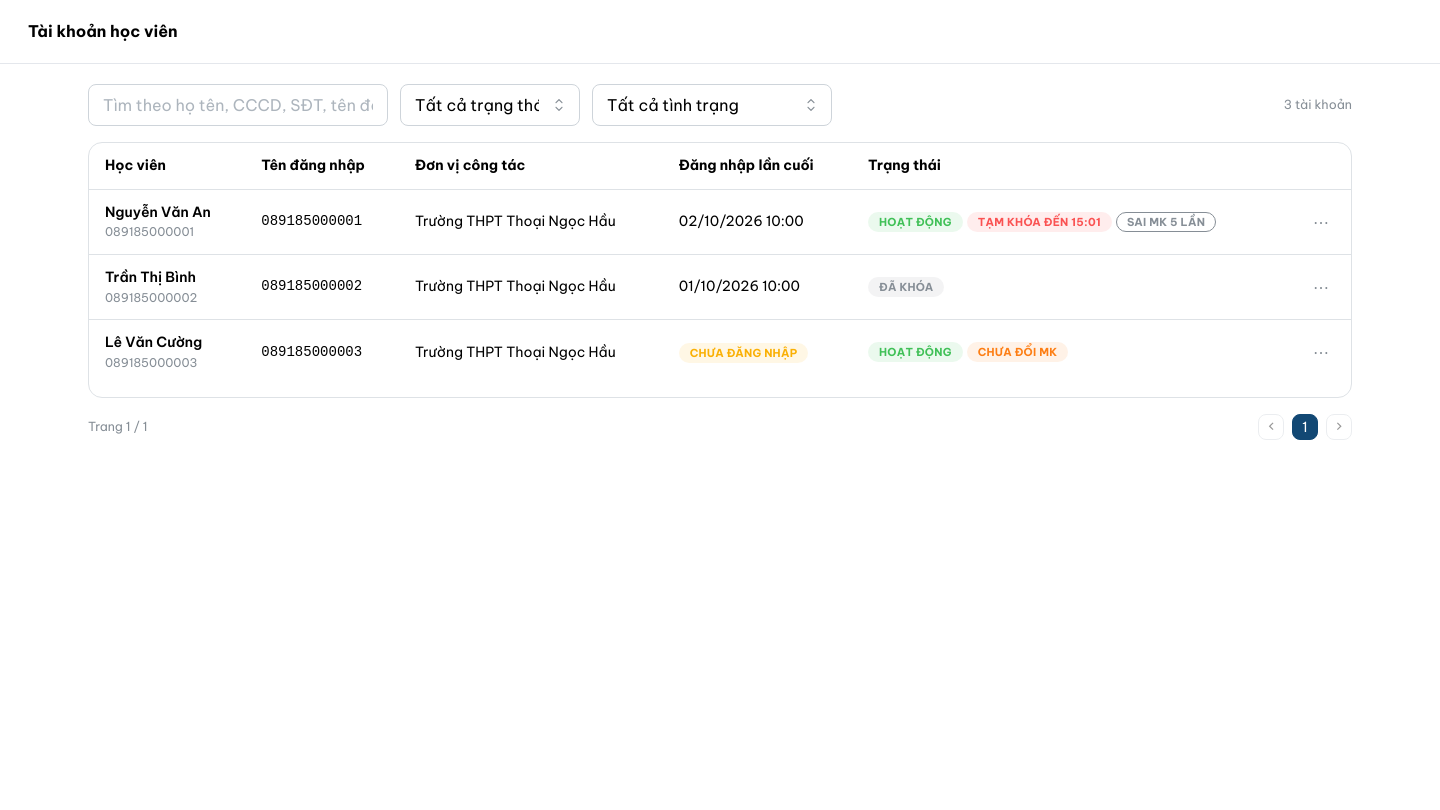
Test: Admin — Tài khoản học viên › cấp lại mật khẩu: modal hiện thông tin xác minh, chỉ gọi API khi xác nhận, thông báo kèm lưu ý
Click the button "⋯" in the row of "Nguyễn Văn An" at (1321, 222), box [1307, 208, 1335, 236]
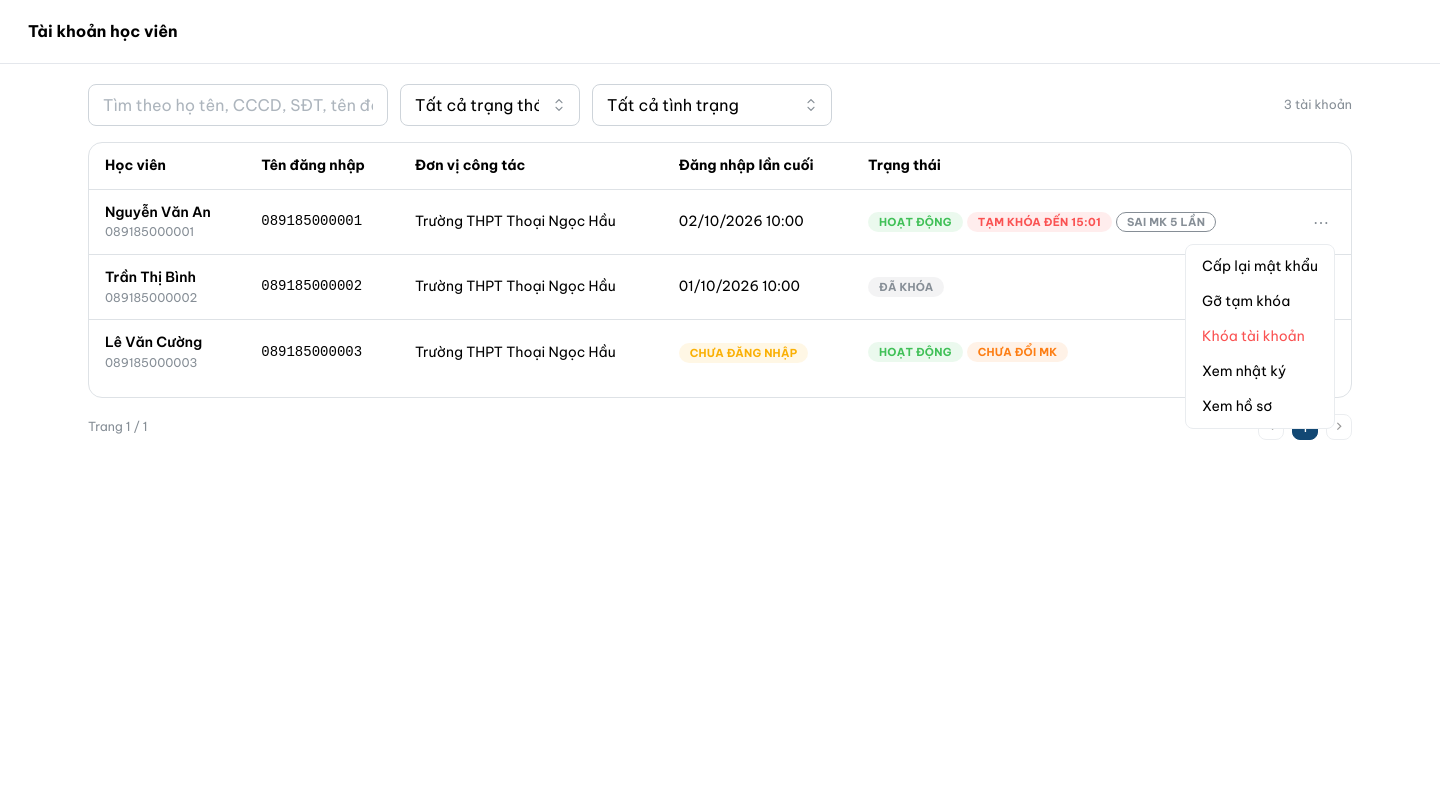
Click the menu item "Cấp lại mật khẩu" at (1260, 266), box [1190, 249, 1330, 284]
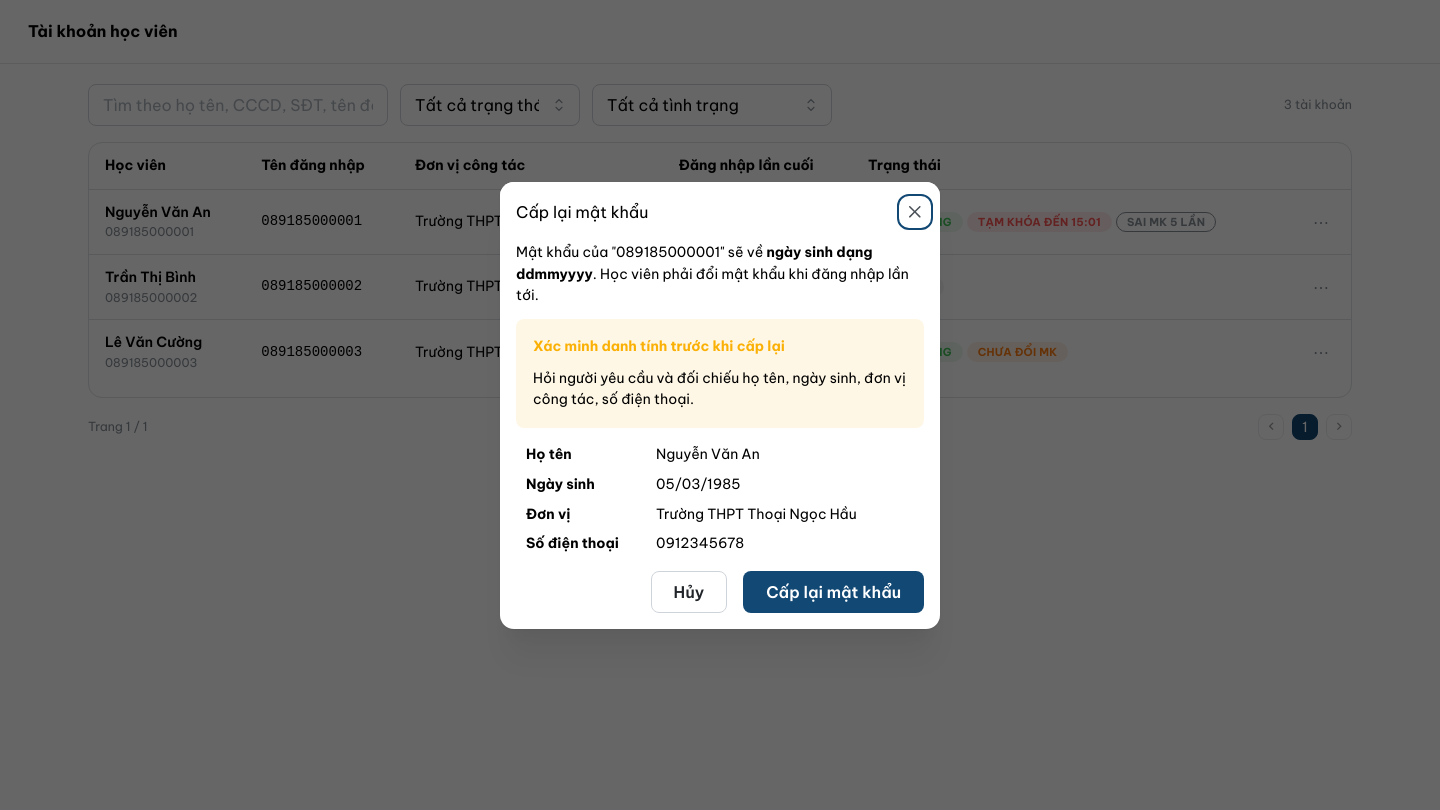
Now the text "ngày sinh dạng ddmmyyyy" is shown, box [516, 243, 872, 282]
Now the text "Xác minh danh tính trước khi cấp lại" is shown, box [533, 336, 785, 357]
Now the text "05/03/1985" is shown, box [646, 469, 924, 499]
Click the button "Cấp lại mật khẩu" at (834, 591), box [743, 570, 924, 612]
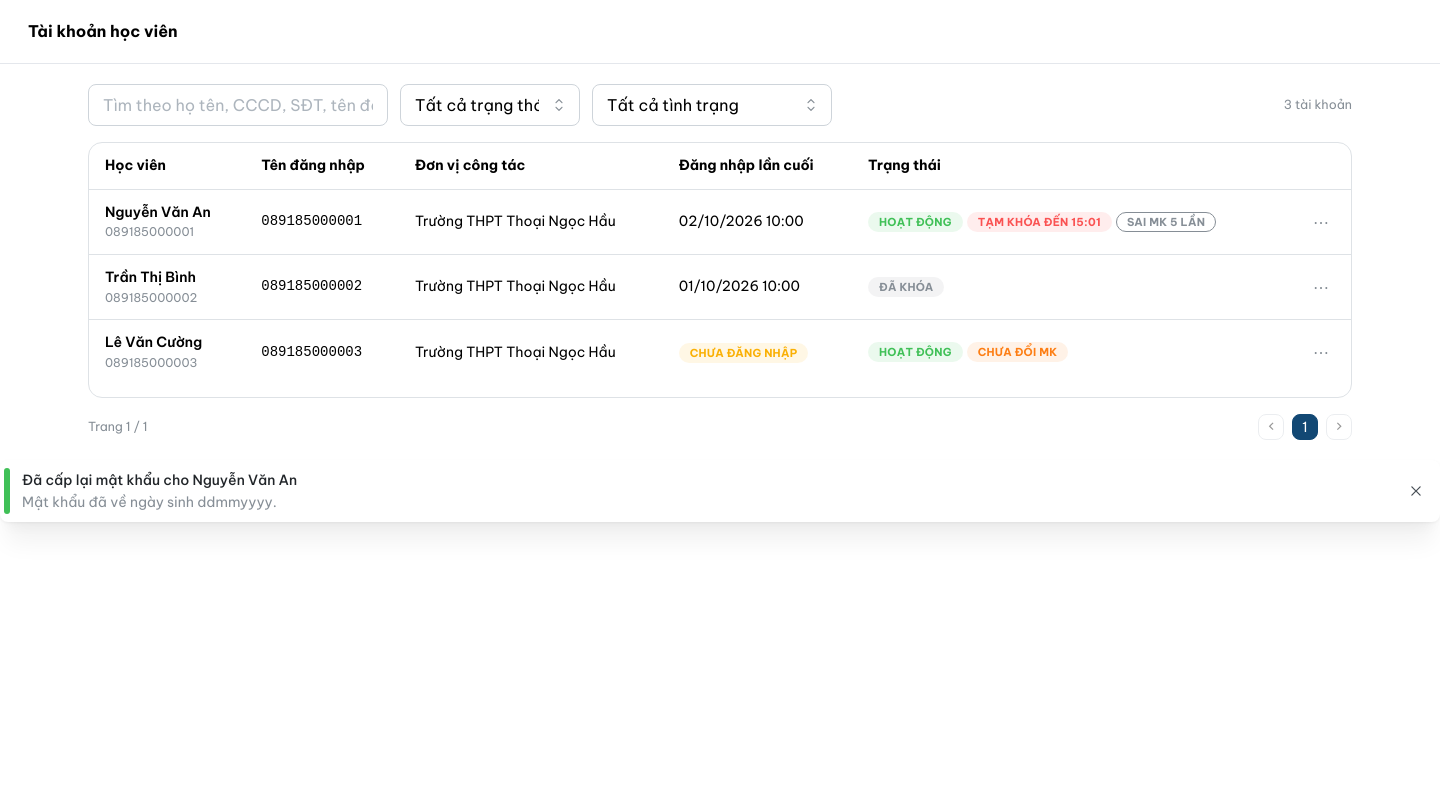
Now the text "Mật khẩu đã về ngày sinh ddmmyyyy." is shown, box [22, 493, 277, 511]
Now the text "Đã cấp lại mật khẩu cho Nguyễn Văn An" is shown, box [22, 470, 297, 488]
